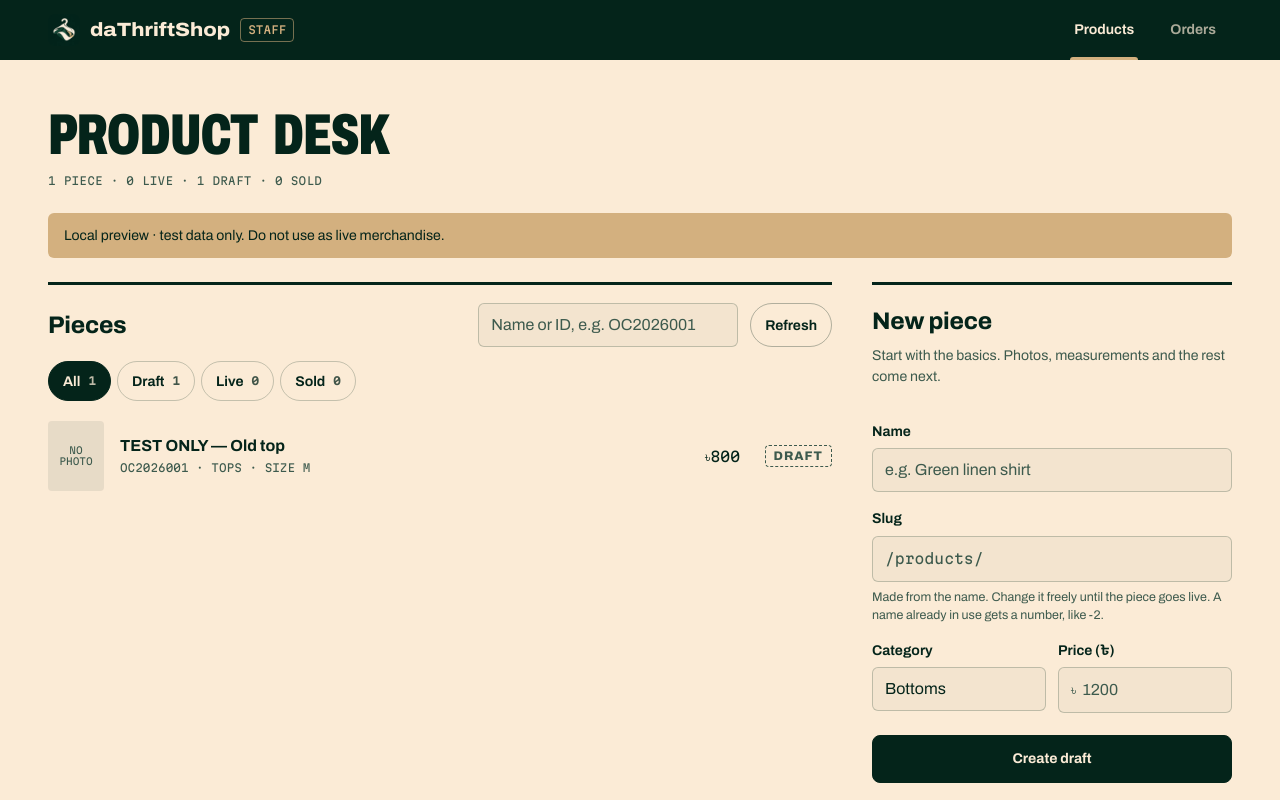
Test: says plainly when the slug is already used
The image size is (1280, 800).
Type "TEST ONLY — Old top" into the field labelled "Name" at (1052, 470), box [872,448,1232,492]
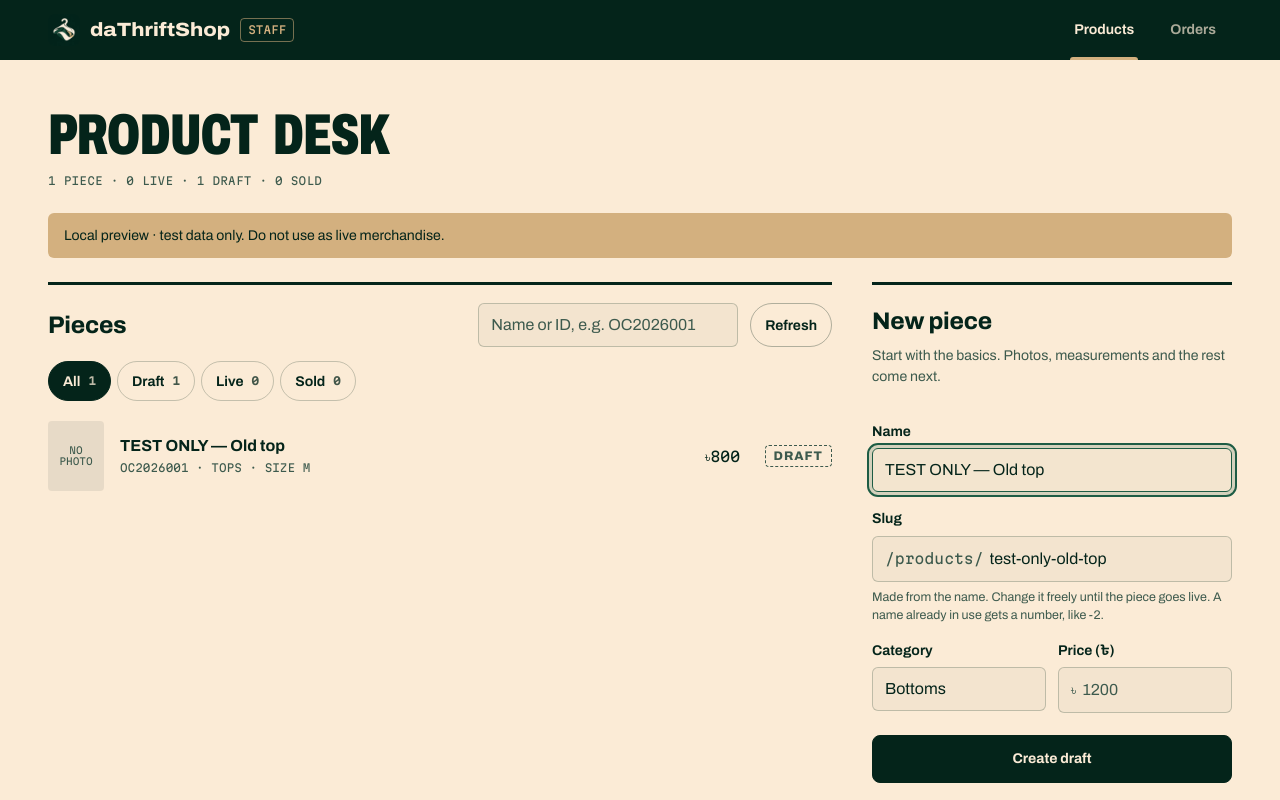
Type "900" into the number field labelled "Price (৳)" at (1154, 690), box [1076,668,1231,712]
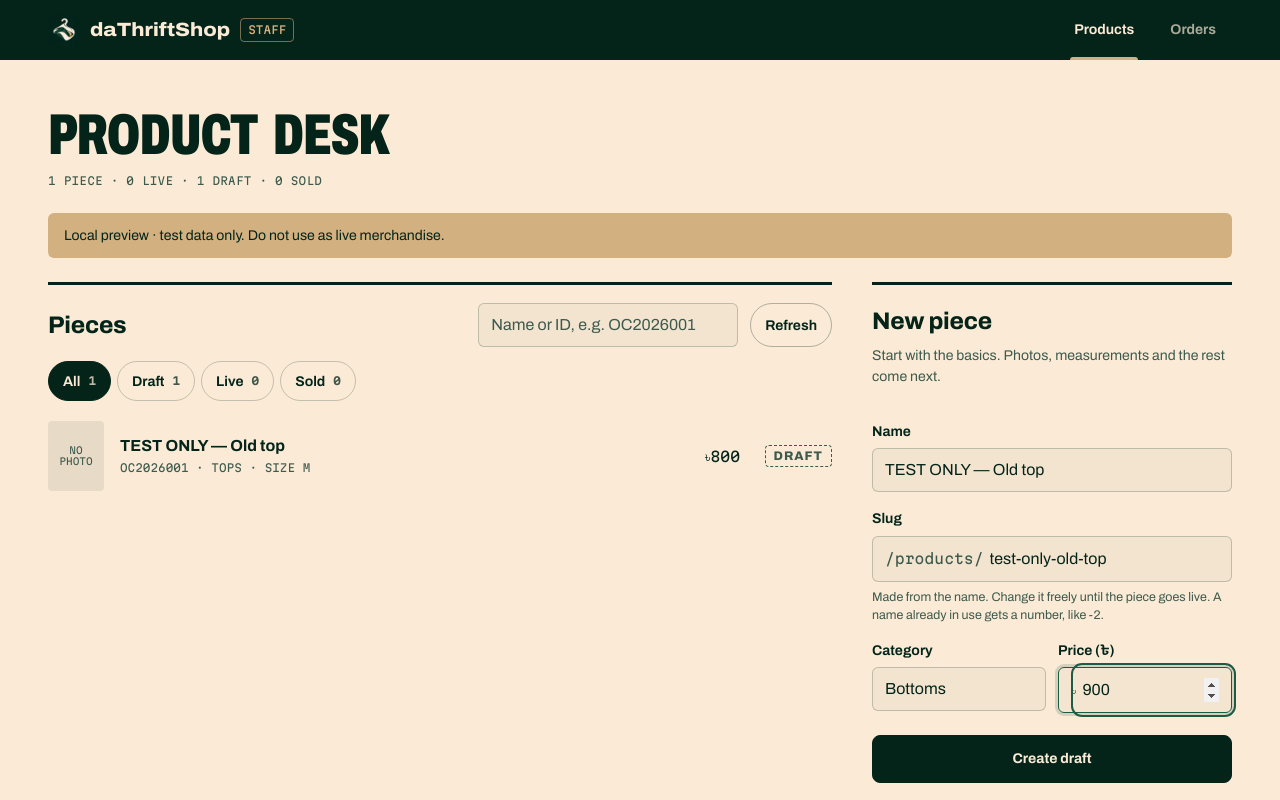
Click the button "Create draft" at (1052, 759), box [872,735,1232,783]
(page scrolled)
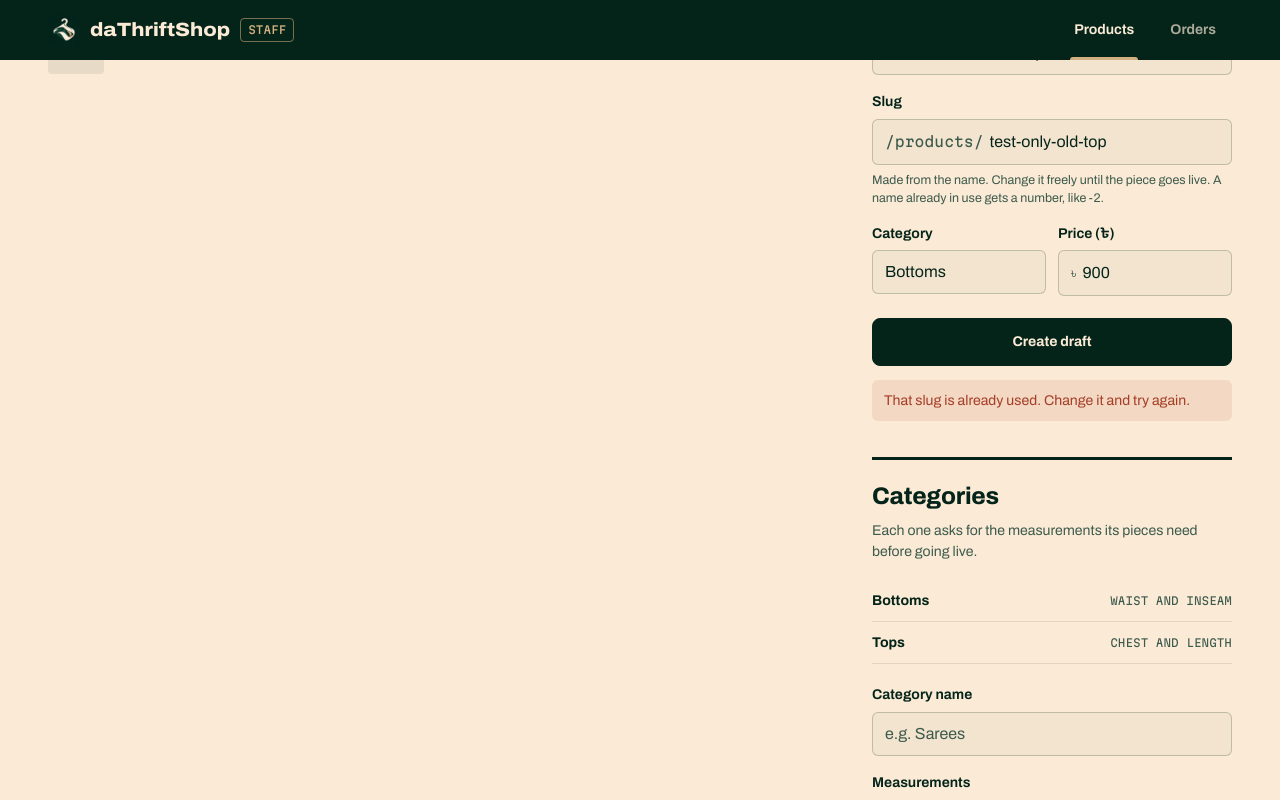
Check: the message reads "That slug is already used. Change it and try again.", box [884,393,1190,408]
